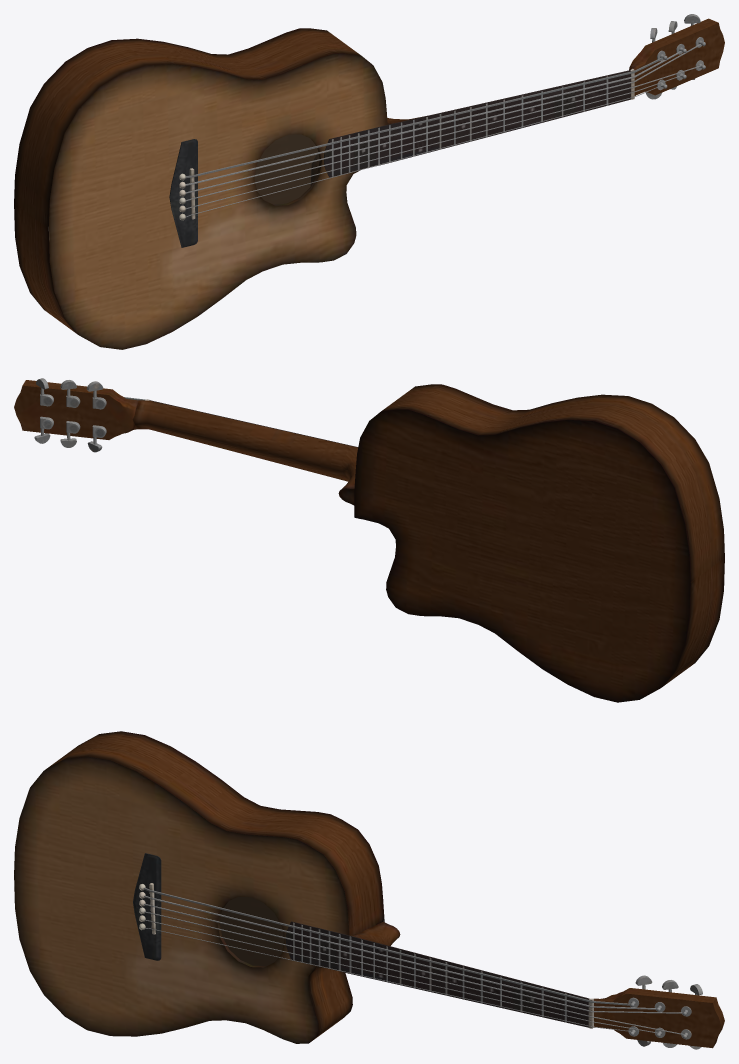
The model's file is violao.glb.
3 renders of one model, top to bottom at view 1: azimuth 30°, elevation 25°; view 2: azimuth 150°, elevation 25°; view 3: azimuth 330°, elevation 25°, orthographic.
Parts seen in each view (by area): view 1: Acoustic Guitar_Guitar_0; view 2: Acoustic Guitar_Guitar_0; view 3: Acoustic Guitar_Guitar_0.
Boxes of the visible parts, x1,y1,x2,y2 form: Acoustic Guitar_Guitar_0: (14, 14, 724, 349); Acoustic Guitar_Guitar_0: (14, 378, 724, 702); Acoustic Guitar_Guitar_0: (14, 731, 724, 1049).
Bounding box in the file's own units: 1 × 0.3829 × 0.0954.
1 material, 1 textured.
